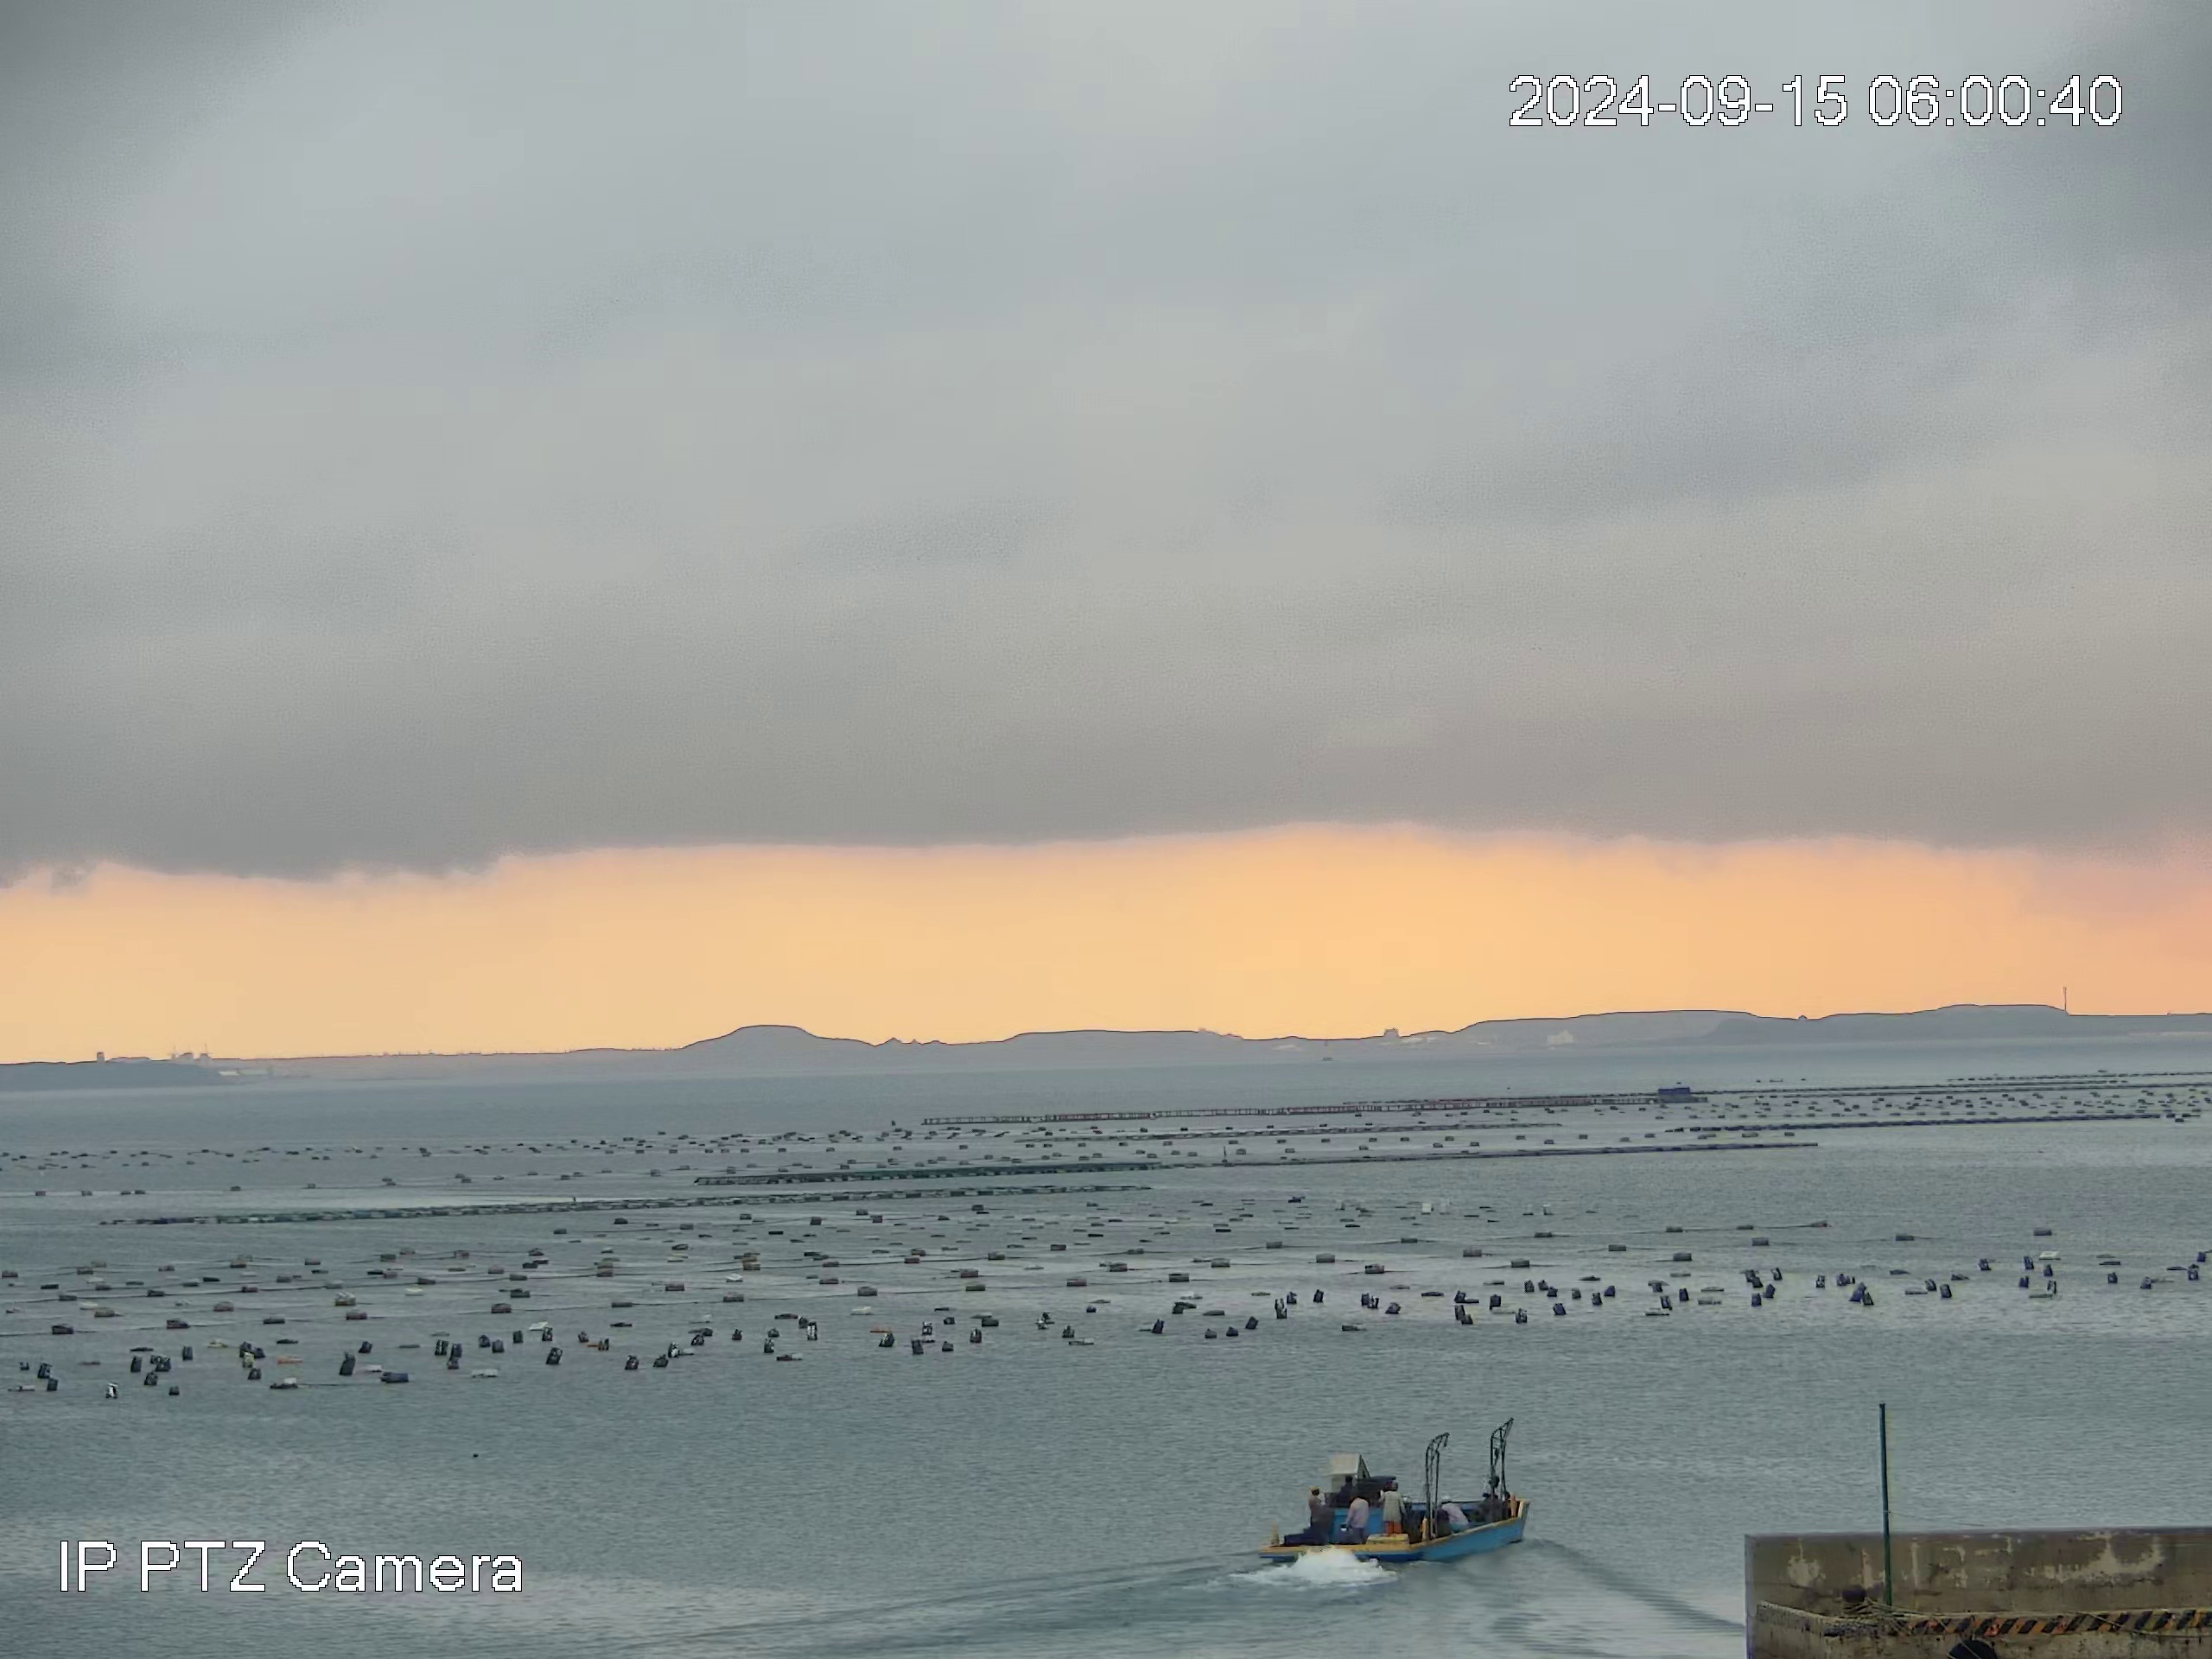boat: (1252, 1412, 1526, 1577)
